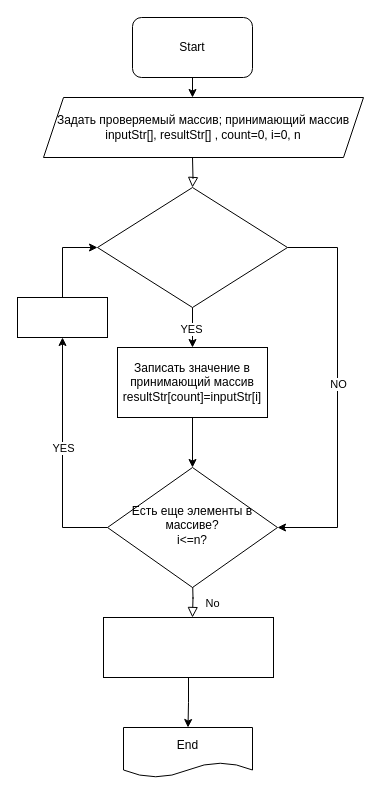
Some shapes in this 381 by 795 pixel diagram are drawn without their labels. Each missing label, with the centre of its shape:
"i=i++ count=count++" belongs at (62,317).
"Вывести значения принимающего массива foreach str in resultStrings" belongs at (188,647).
"Проверка длины элемента массива str[i].length<=3?" belongs at (192,247).
